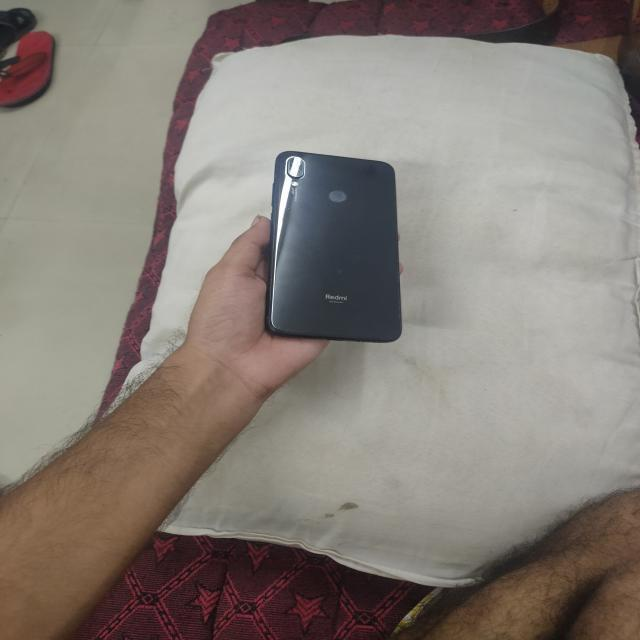Phone: (265, 145, 405, 348)
